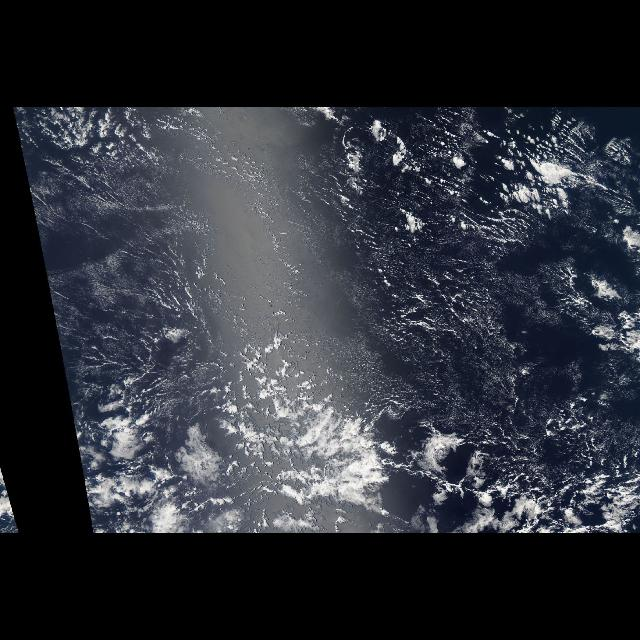Fish: (103, 379, 629, 533)
Gravel: (90, 380, 636, 530), (310, 120, 636, 338)
Sugar: (15, 110, 638, 477)
